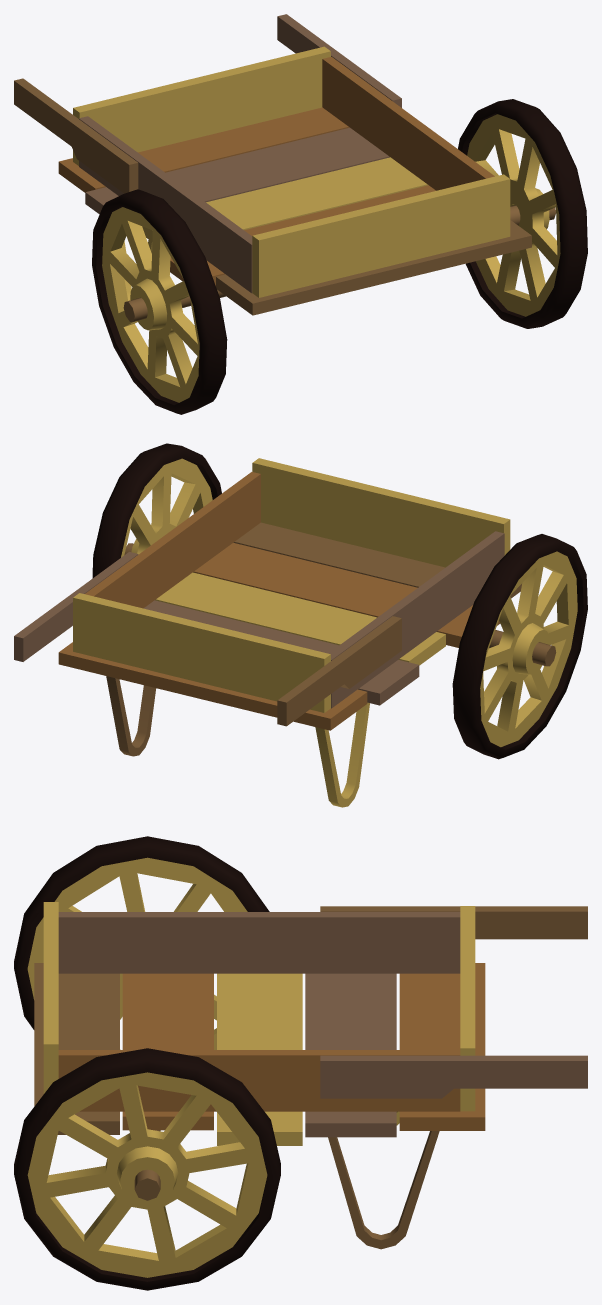
The picture shows the model from 3 angles, top to bottom: view 1: azimuth 30°, elevation 25°; view 2: azimuth 150°, elevation 25°; view 3: azimuth 270°, elevation 25°; orthographic projection. The views are drawn at different scales.
Visible parts, largest first — view 1: Plane.003; view 2: Plane.003; view 3: Plane.003.
Boxes of the visible parts, left/top/right/bottom form: Plane.003: left=14, top=14, right=587, bottom=414; Plane.003: left=14, top=443, right=587, bottom=807; Plane.003: left=14, top=836, right=587, bottom=1290.
Bounding box in the file's own units: 248 × 117 × 251.
